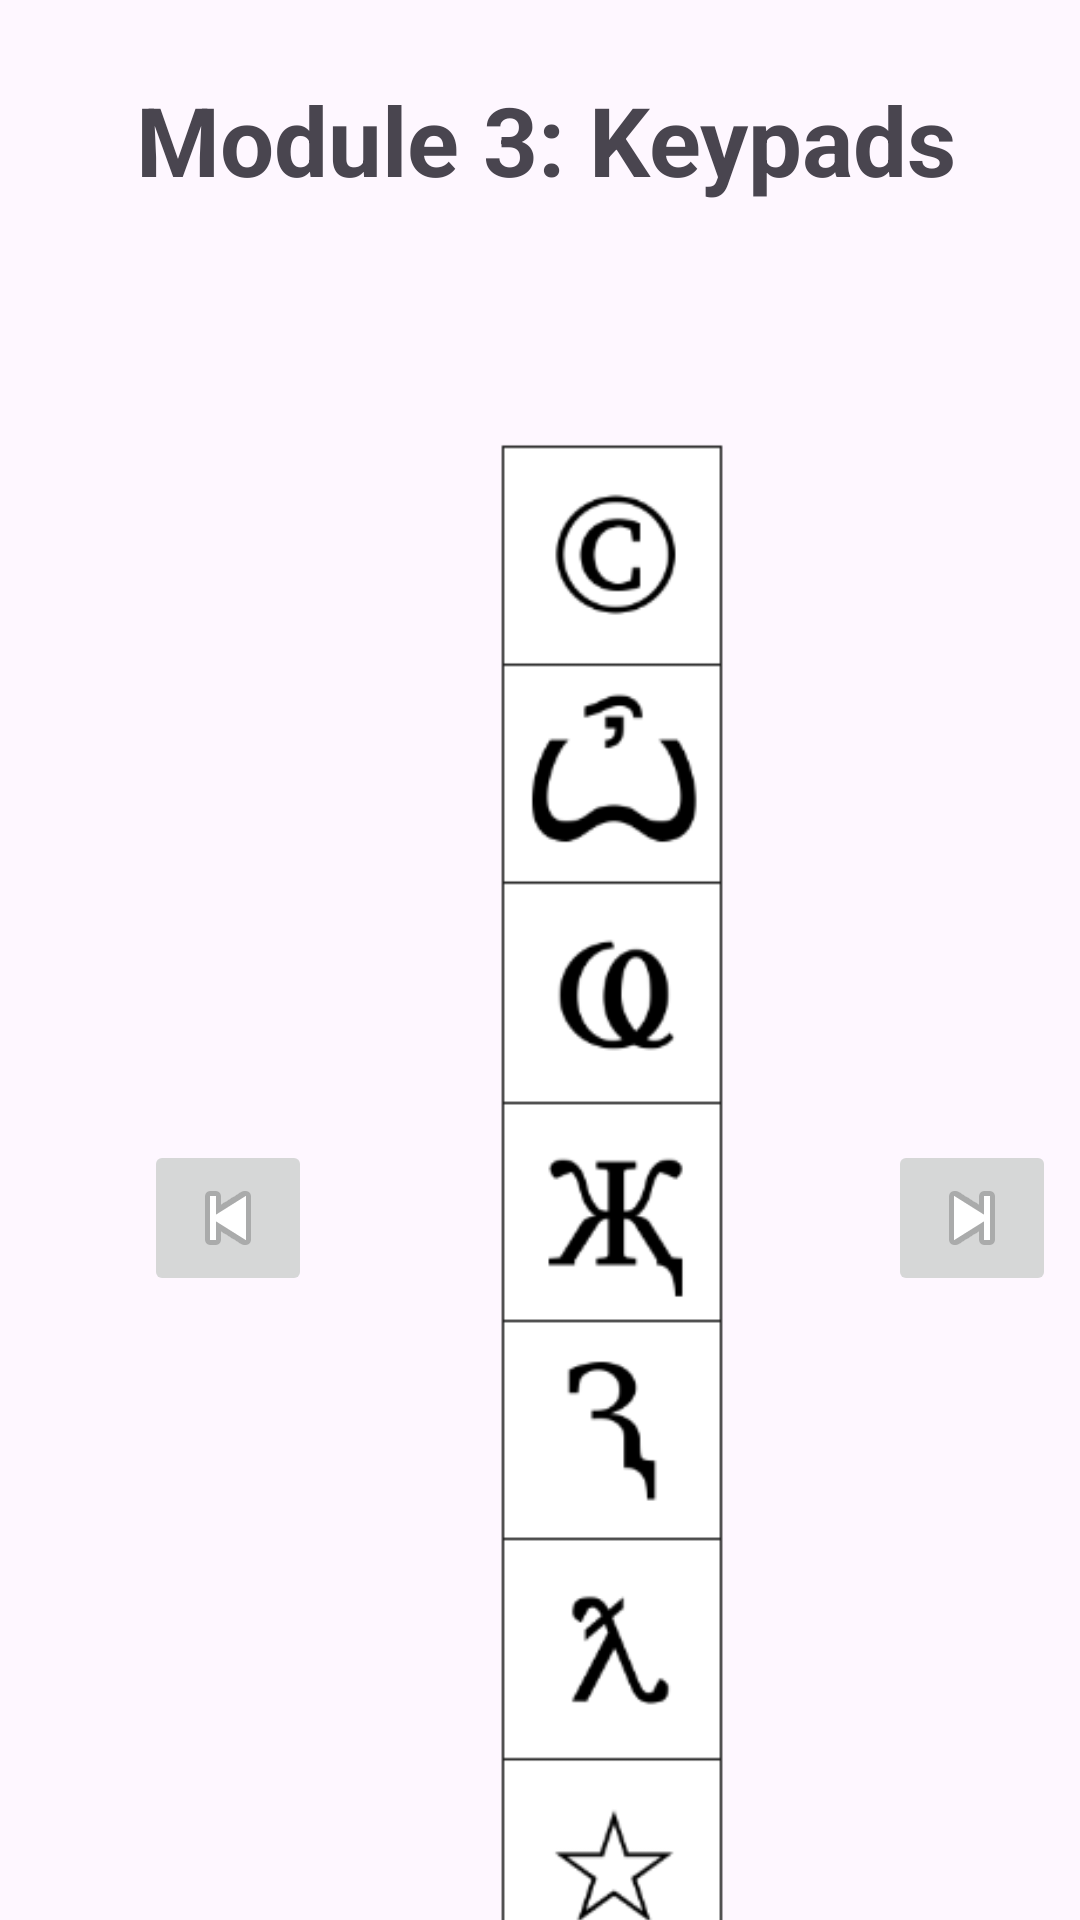

Named icons in this screenshot (1080px×1920px) and their bounding boxes, (x1, y1, x2, y2):
next: (900, 1158, 1044, 1278)
previous: (156, 1158, 300, 1278)
